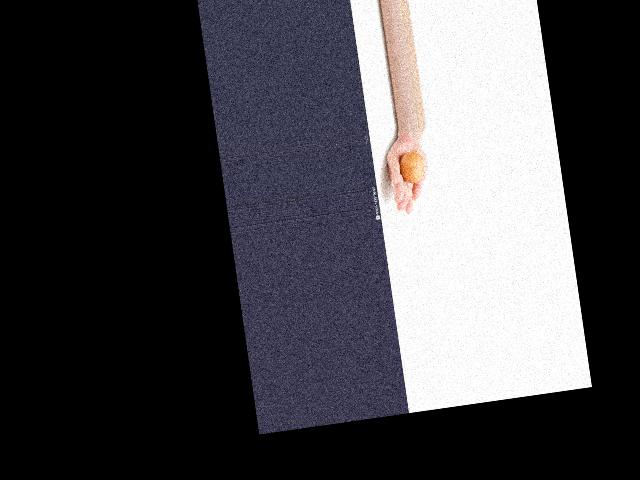egg: (397, 149, 426, 184)
